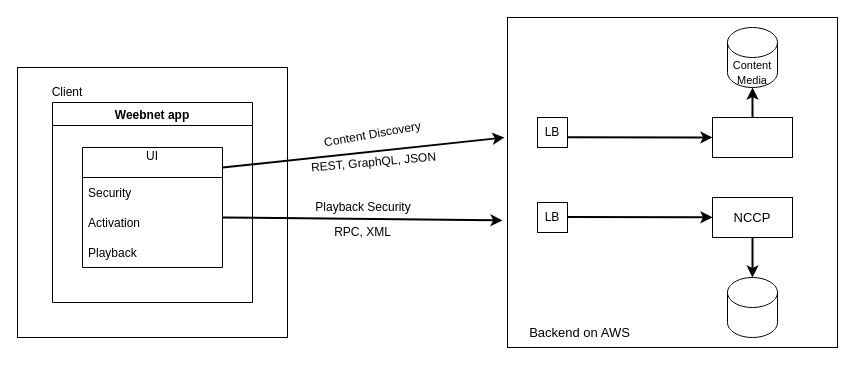
The diagram is 855 pixels wide and 365 high, and some of its shapes have lost their labels. The shapes that lost their labels are listed below. From the top down, each one's centre as x and y in pixels, then its label:
the point at 752,137: API
the point at 752,307: Servers
